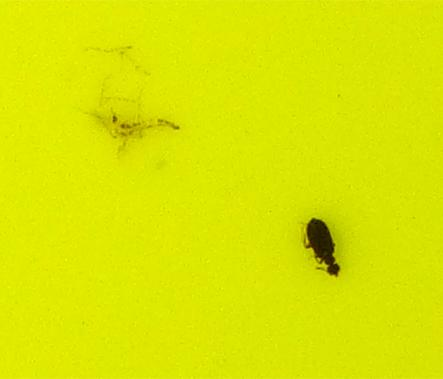Coleoptera: (300, 215, 343, 279)
Nematocera: (100, 100, 184, 146)
